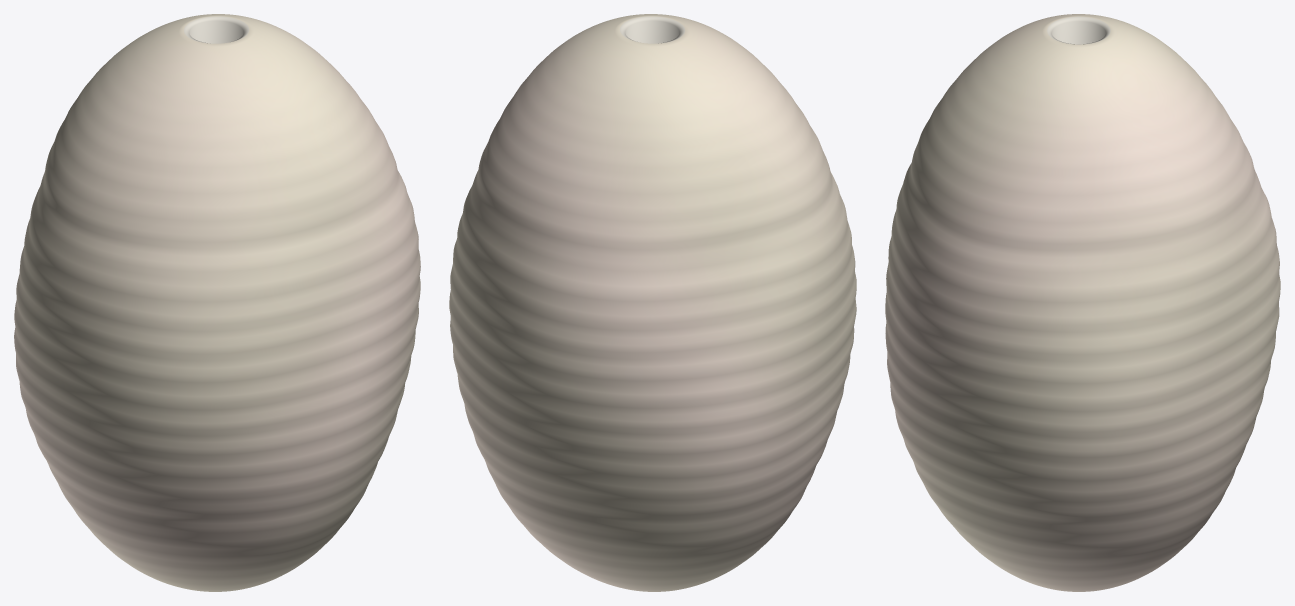
Rendered from pearl-ref-02.glb.
3 renders of one model, left to right at view 1: azimuth 30°, elevation 25°; view 2: azimuth 150°, elevation 25°; view 3: azimuth 270°, elevation 25°, orthographic.
Visible parts, largest first — view 1: pearl-ref-02; view 2: pearl-ref-02; view 3: pearl-ref-02.
Part boxes in pixels (<box>): pearl-ref-02: <box>14,14,420,591</box>; pearl-ref-02: <box>449,14,856,591</box>; pearl-ref-02: <box>885,14,1280,591</box>.
Size of the model in its own units: 0.00604 by 0.00888 by 0.00585.
2 materials, 1 textured.
